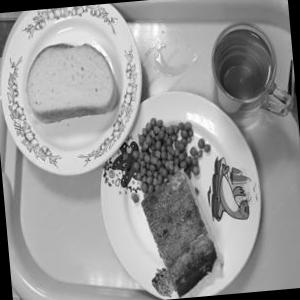bread: (18, 36, 126, 130)
casserole: (110, 115, 230, 294)
tea: (202, 8, 296, 128)
